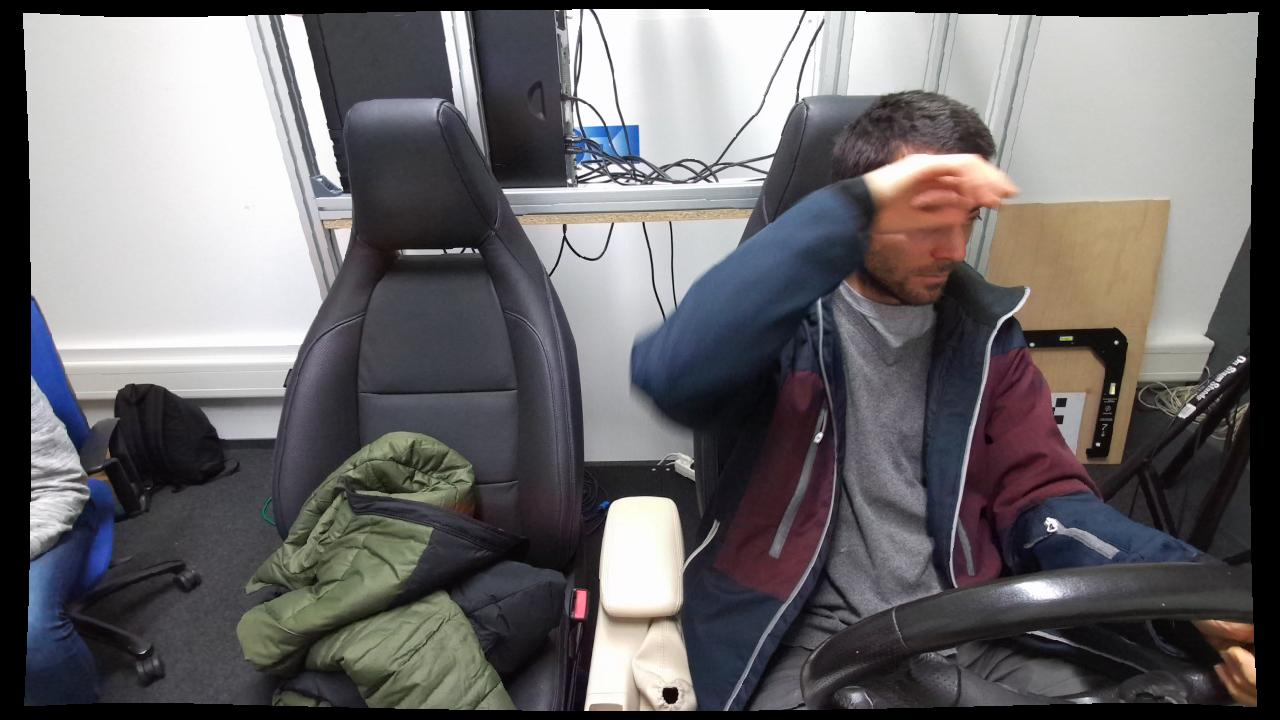Distracted: (625, 91, 1055, 709)
